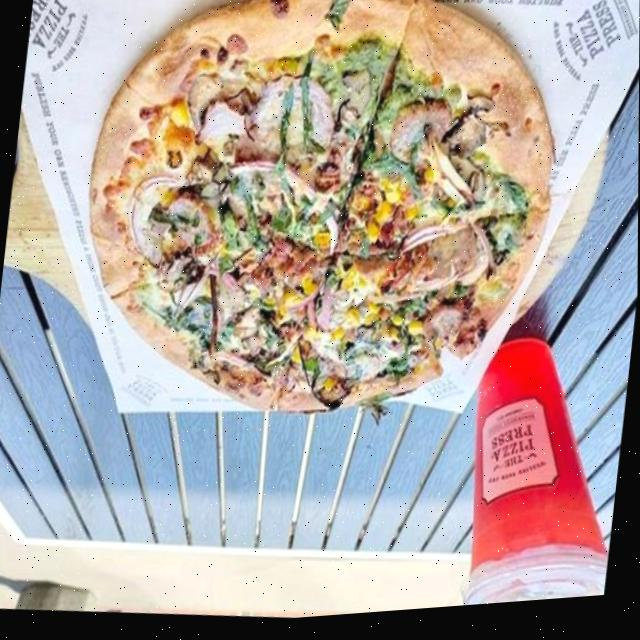basil: (323, 0, 354, 43)
mushrooms: (435, 93, 496, 173), (182, 69, 222, 139)
pizza: (58, 0, 576, 456)
